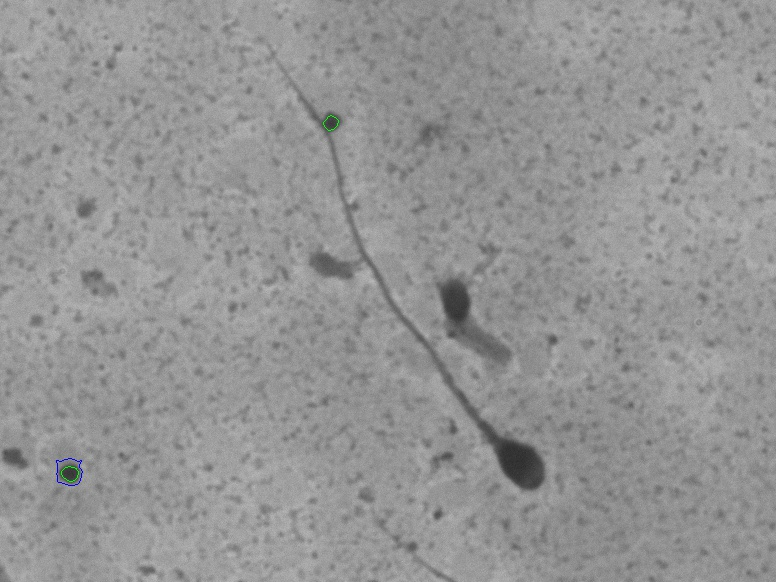Normal: (247, 33, 566, 507)
